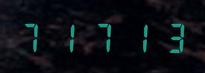one: (52, 20, 85, 53), (120, 20, 153, 53)
seven: (18, 20, 51, 53), (86, 20, 119, 53)
three: (154, 20, 187, 53)
